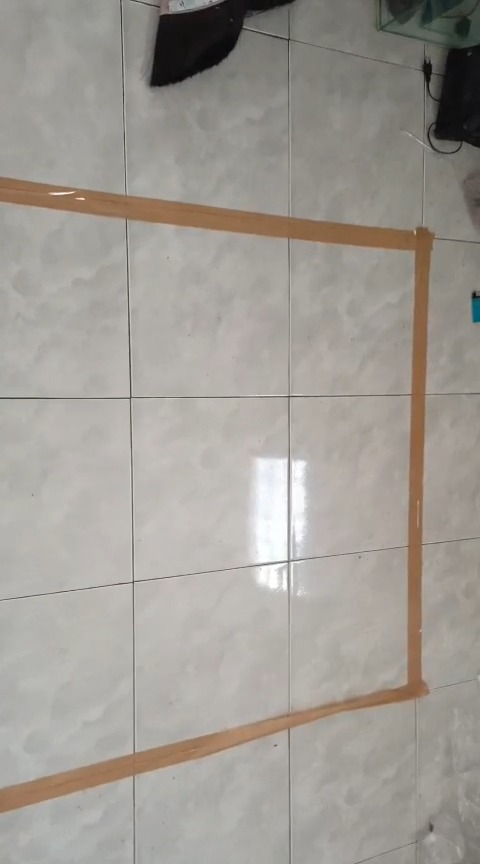floor marking: (0, 178, 433, 811)
